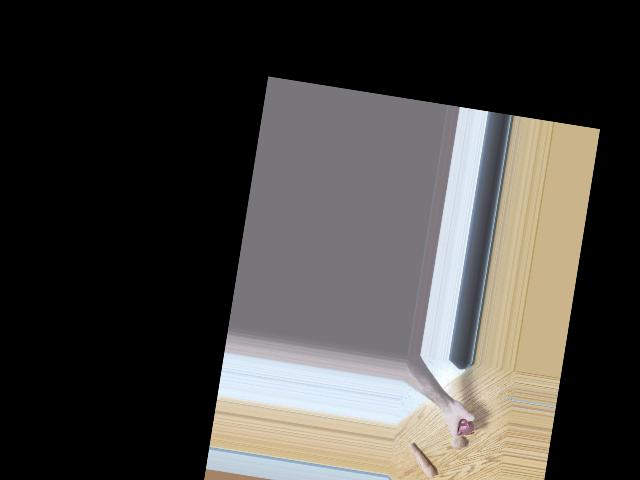onion: (449, 432, 467, 451)
